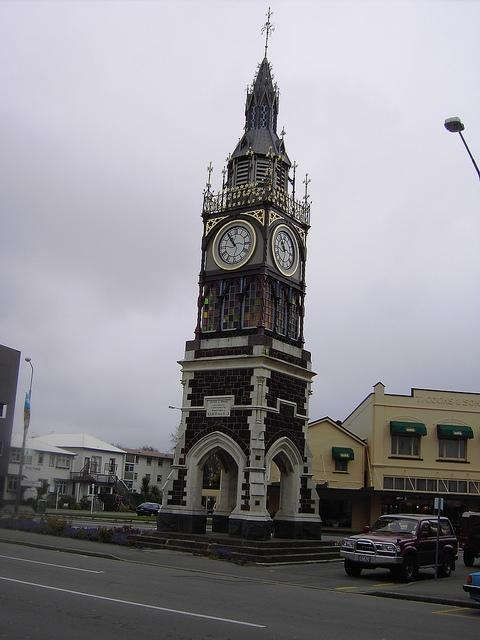car: (340, 512, 460, 582), (461, 511, 480, 566), (135, 502, 161, 516)
